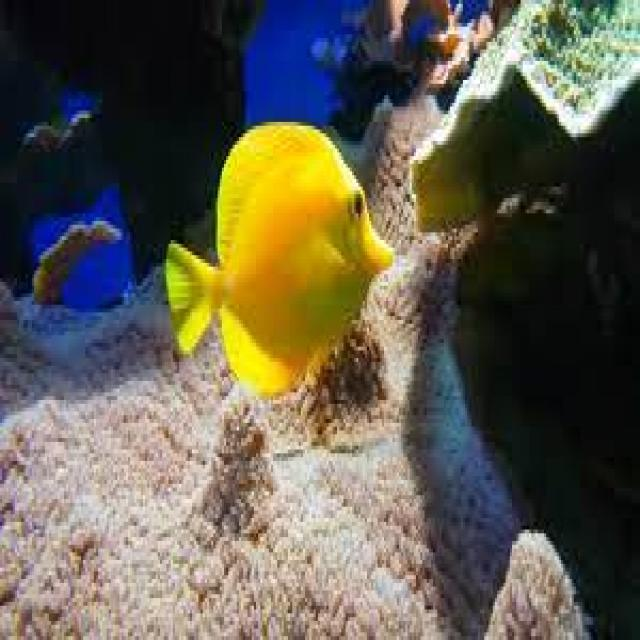YellowTang: (153, 105, 403, 396)
